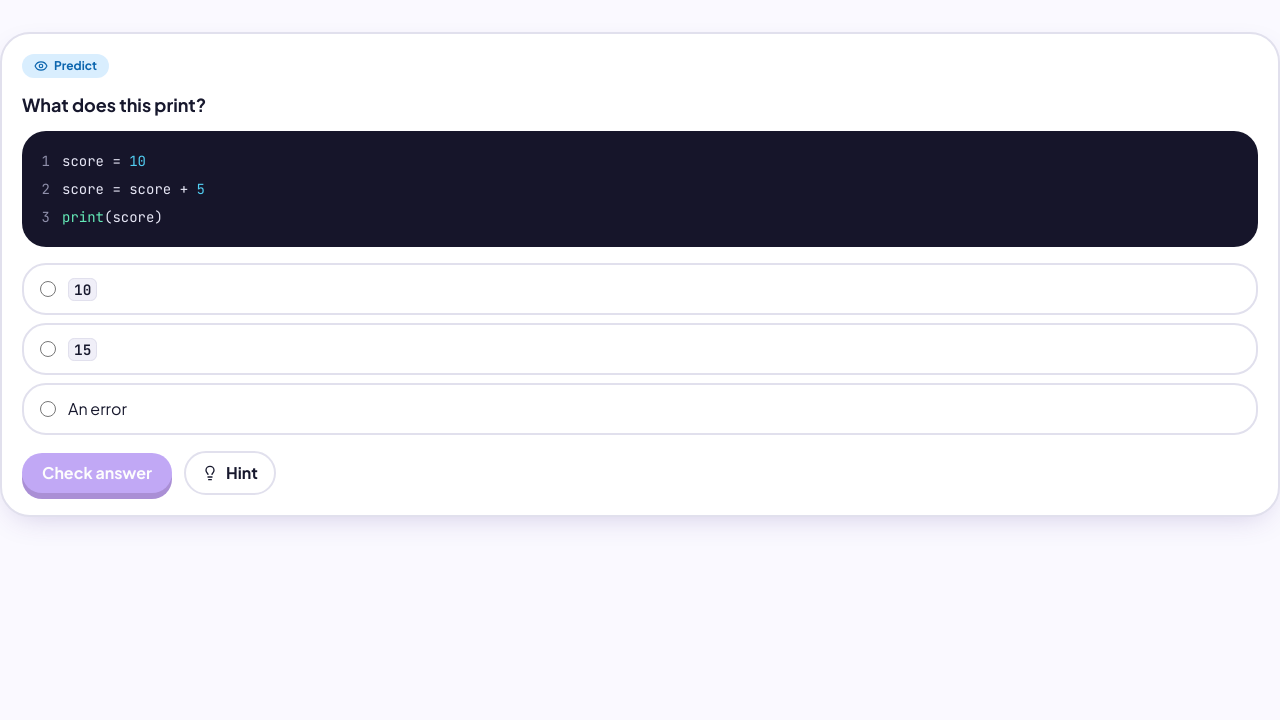
Test: QuestionActivity › gives feedback on a wrong answer, then lets the student try again
Click the radio button labelled "10" at (48, 289), box [40,281,56,297]
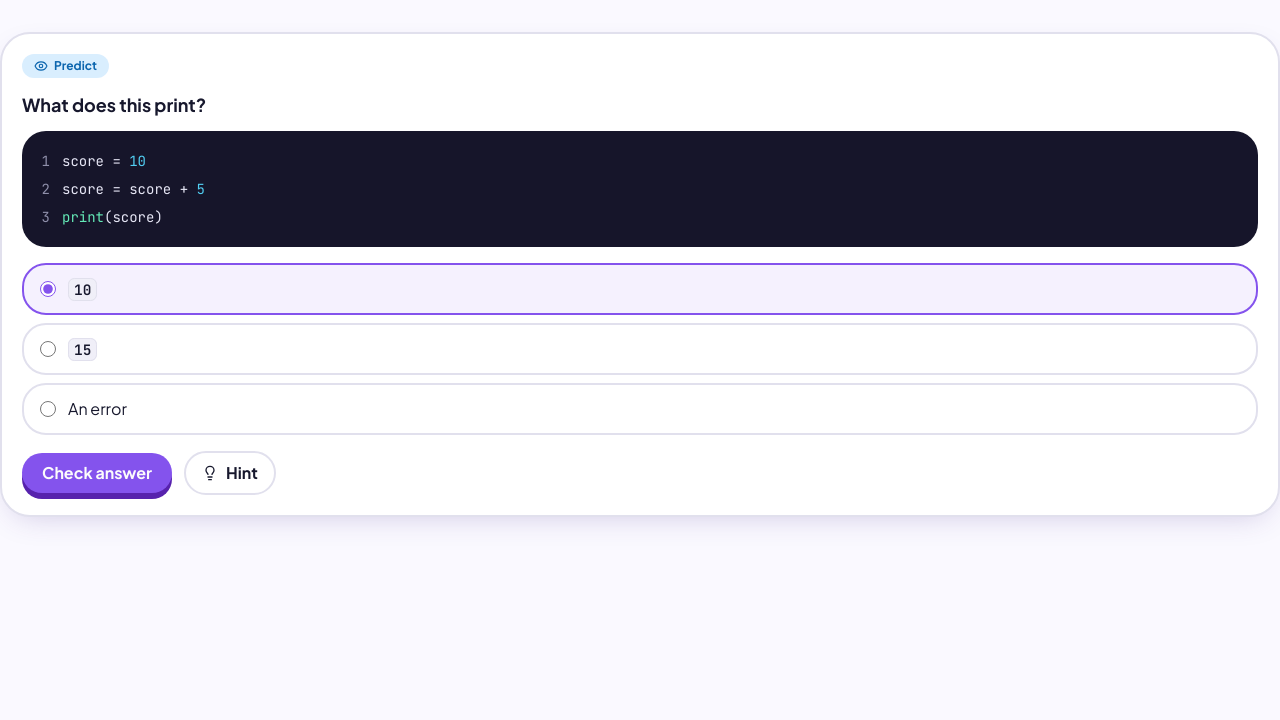
Click the button "Check answer" at (97, 473), box [22,453,172,493]
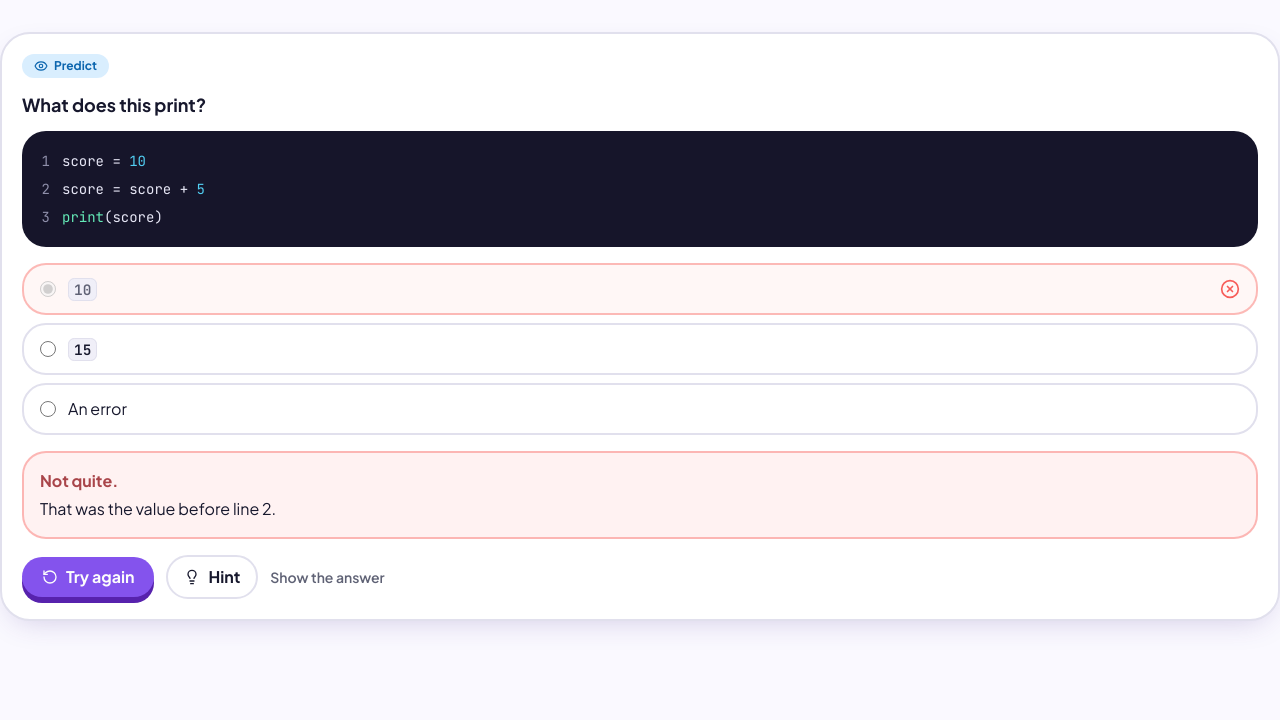
Expected: the text "10 + 5 is 15." is not shown
Now the text "That was the value before line 2." is shown, box [40,498,276,519]
Click the button "Try again" at (88, 577), box [22,557,154,597]
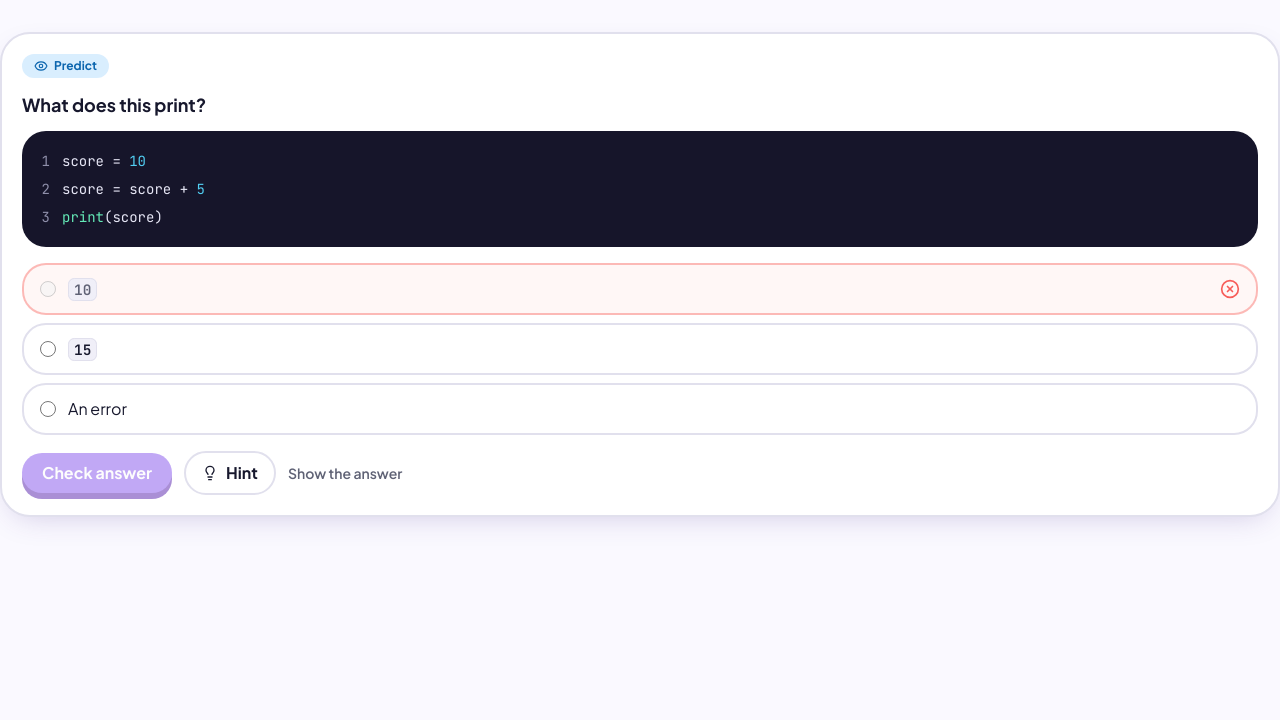
Now the radio button labelled "10" is disabled, box [40,281,56,297]
Click the radio button labelled "15" at (48, 349), box [40,341,56,357]
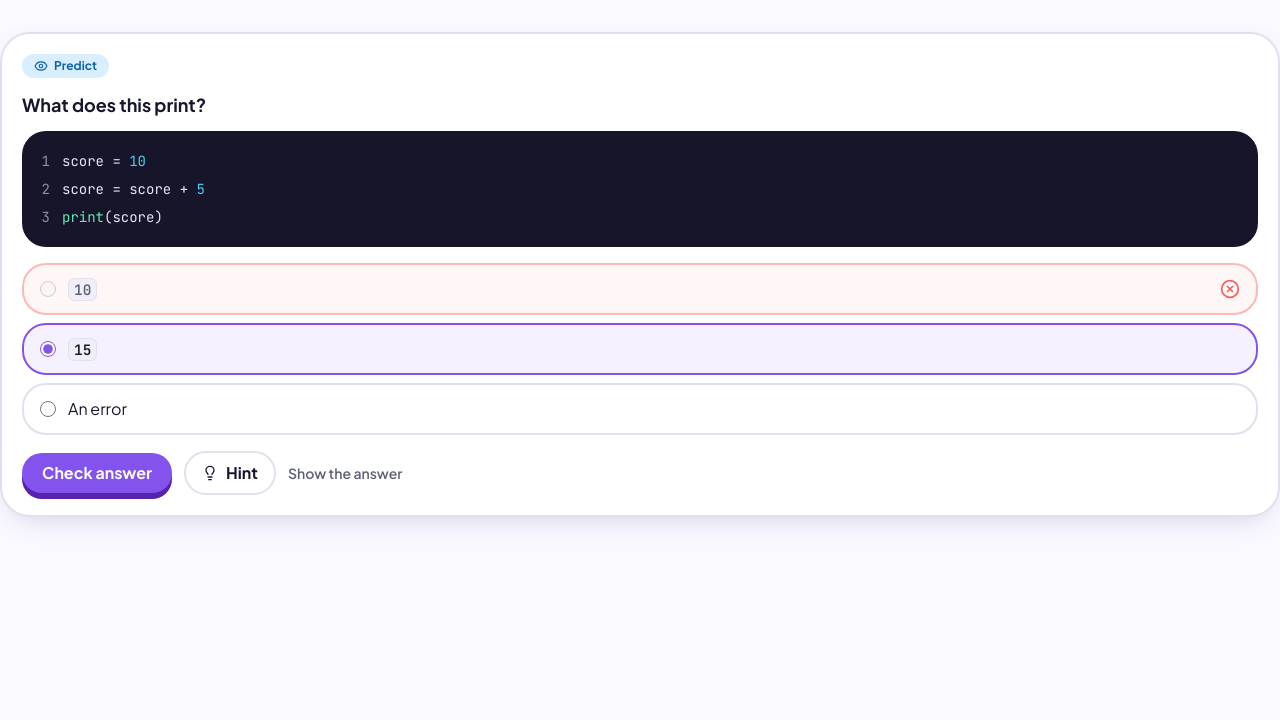
Click the button "Check answer" at (97, 473), box [22,453,172,493]
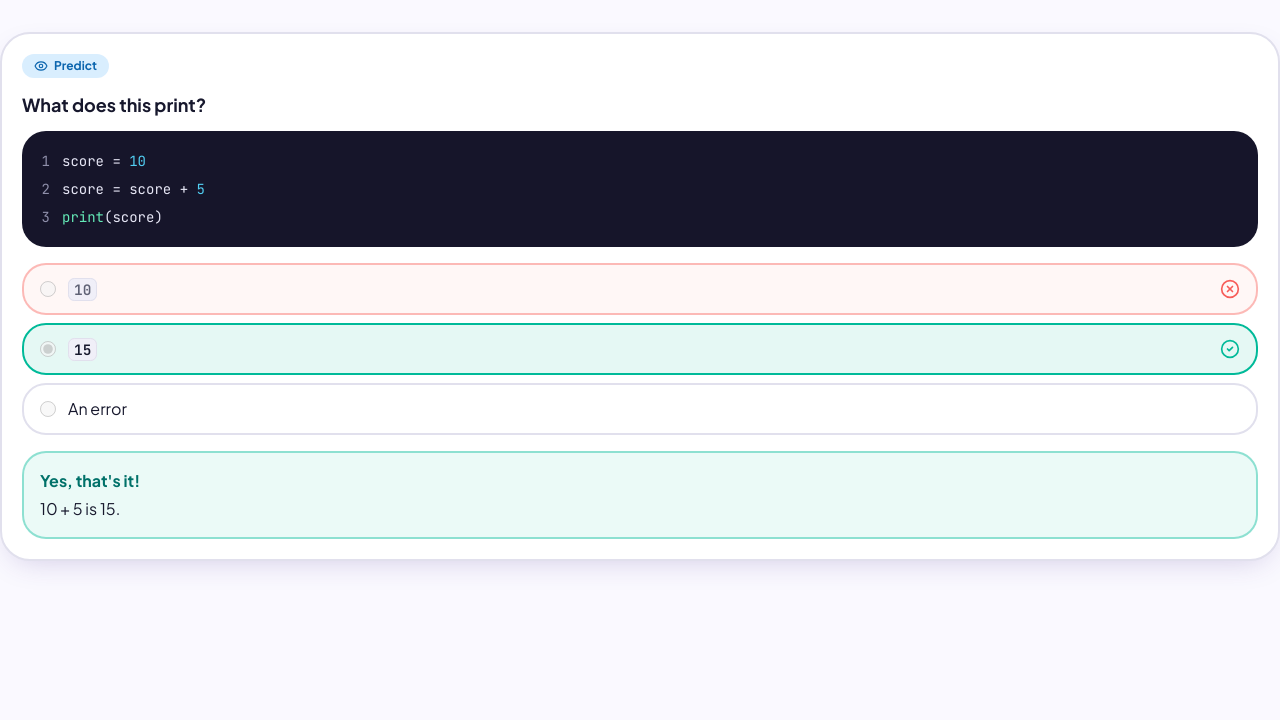
Now the text "Yes, that's it!" is shown, box [40,470,140,491]
Now the text "10 + 5 is 15." is shown, box [40,498,120,519]
